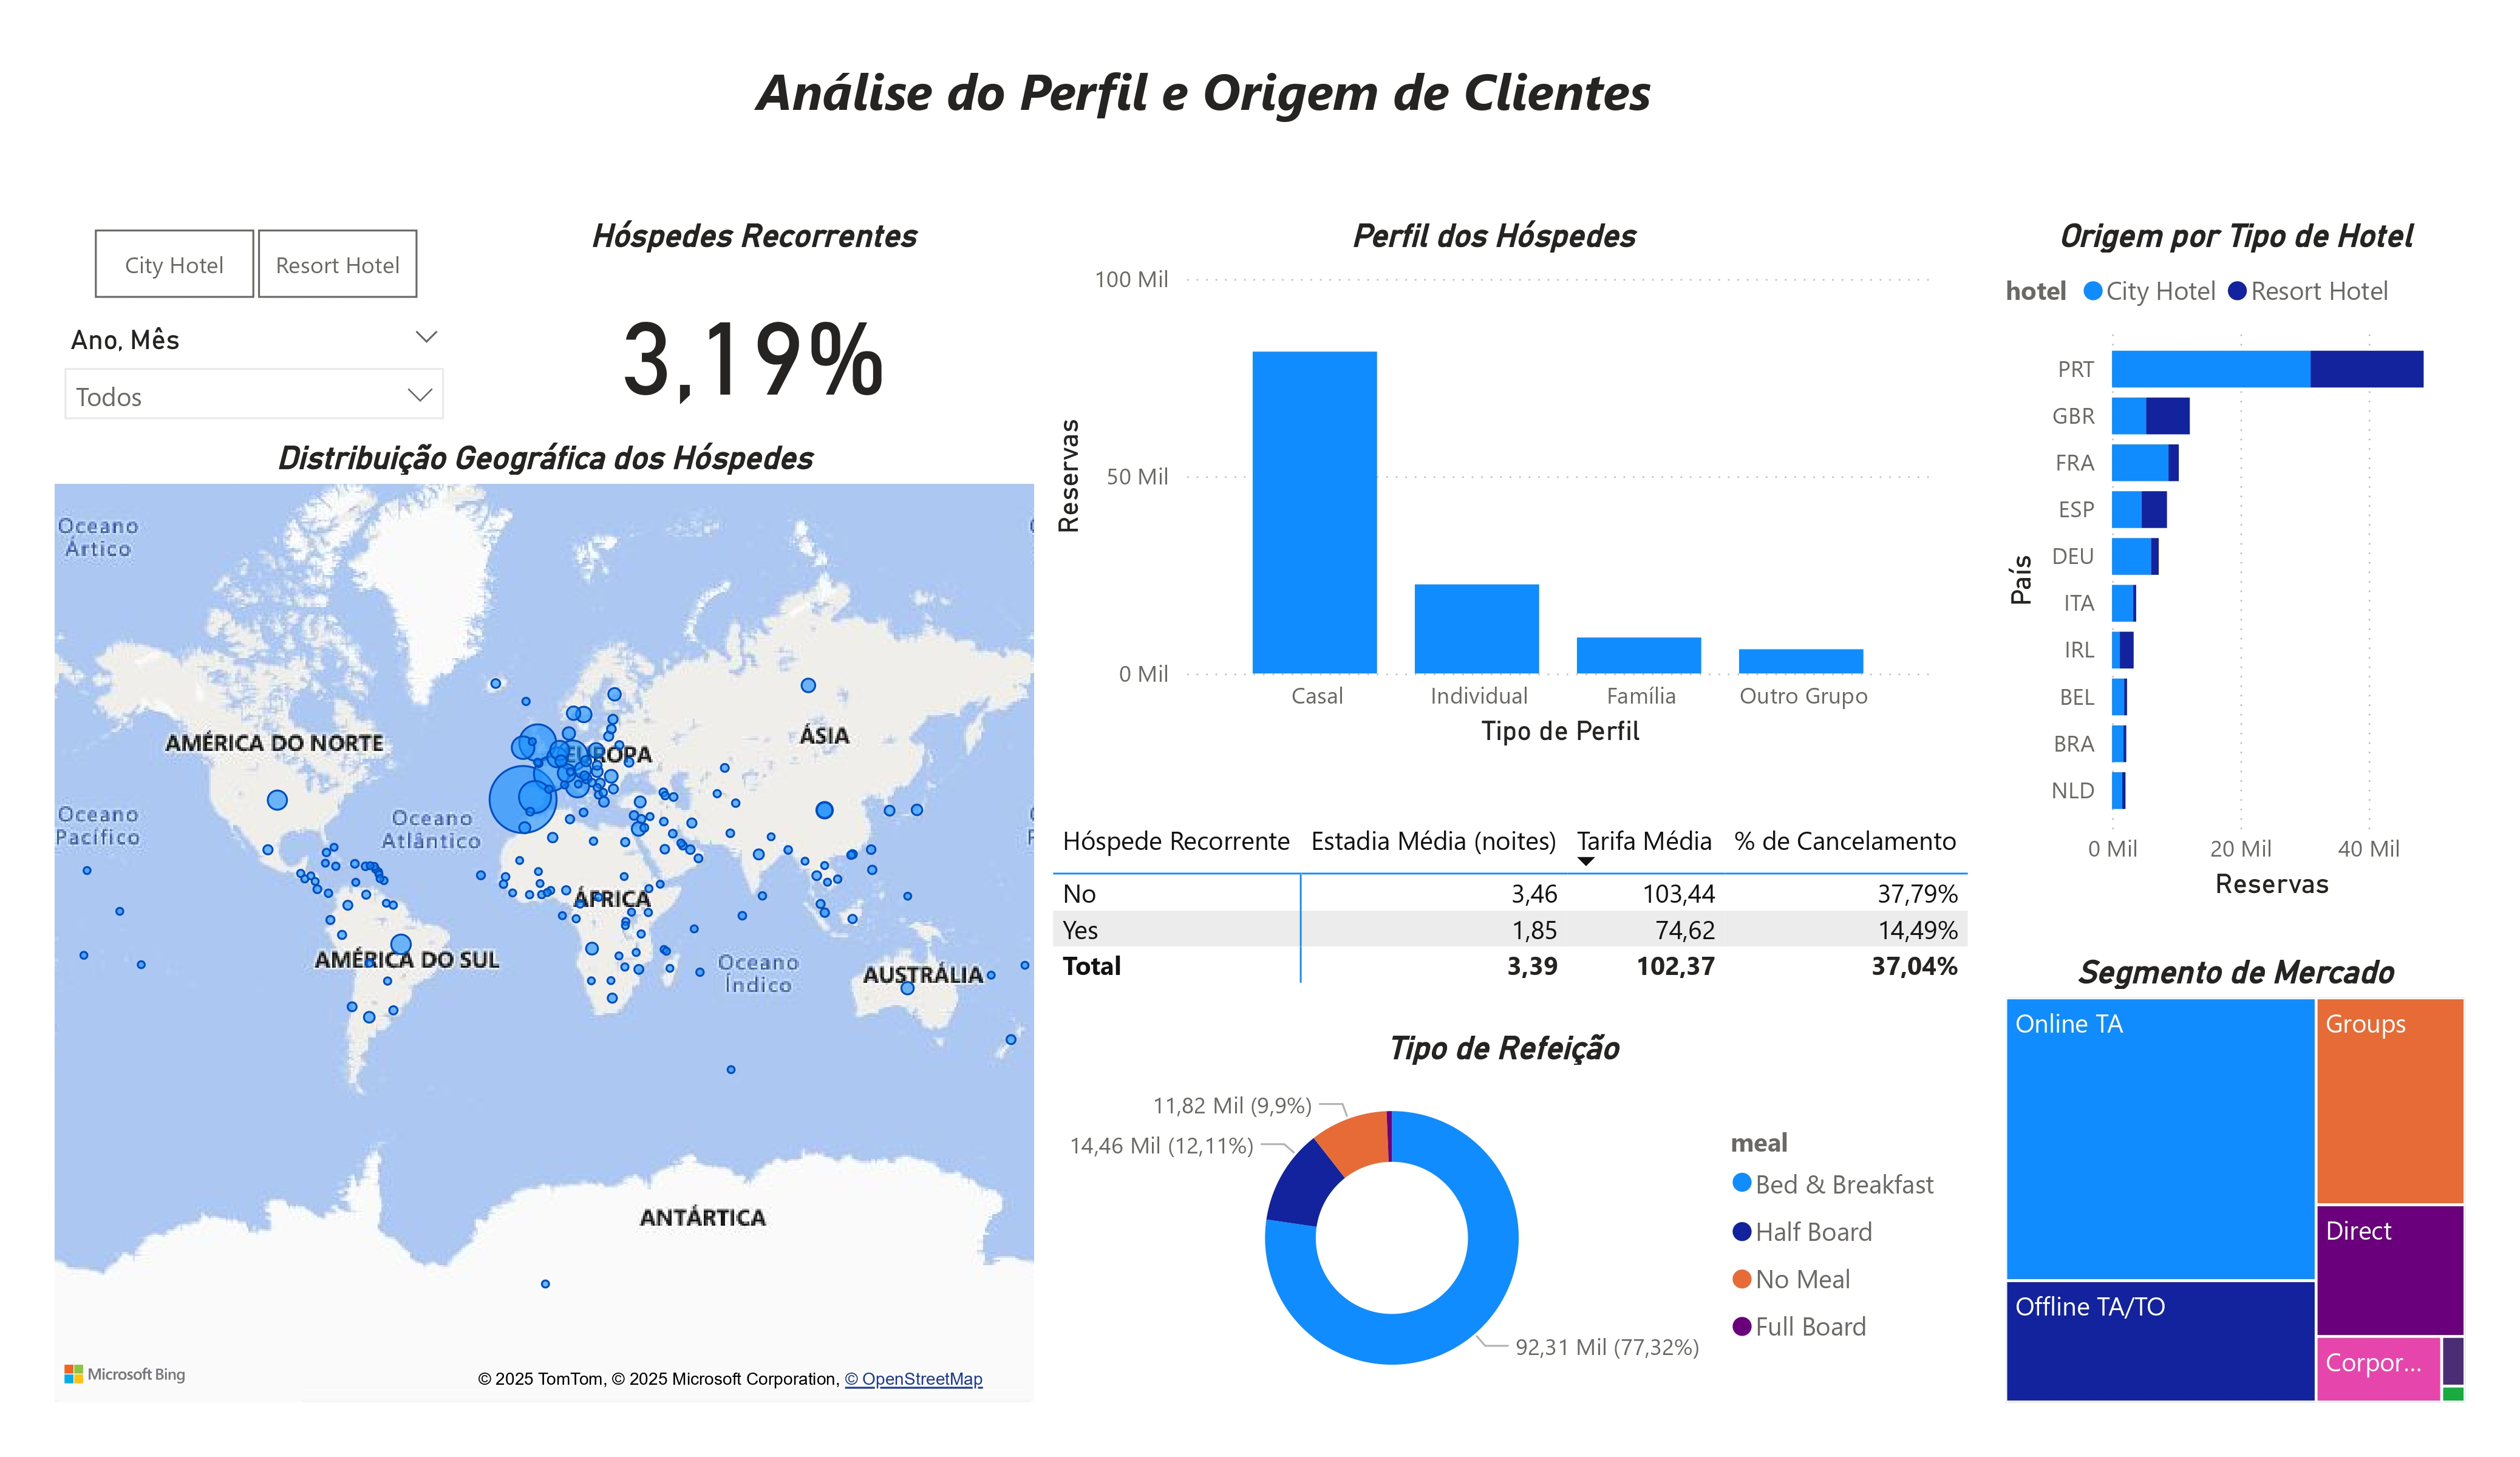

This screenshot's page, from the dashboard's own definition file:
{"tool":"powerbi","page":{"name":"Análise de Clientes","canvas":[1280,720],"ordinal":1},"visuals":[{"type":"map","title":"Distribuição Geográfica dos Hóspedes","fields":{"Category":["hotel_booking_tratado.country"],"Size":["CountNonNull(hotel_booking_tratado.hotel)"]},"box":[0,206.7,525.6,513.3],"z":0},{"type":"barChart","title":"Origem por Tipo de Hotel","fields":{"Category":["hotel_booking_tratado.country"],"Y":["CountNonNull(hotel_booking_tratado.hotel)"],"Series":["hotel_booking_tratado.hotel"]},"box":[1028,90,252,365],"z":1000},{"type":"columnChart","title":"Perfil dos Hóspedes","fields":{"Category":["hotel_booking_tratado.Perfil Grupo"],"Y":["CountNonNull(hotel_booking_tratado.hotel)"]},"box":[526,90,474,284],"z":2000},{"type":"slicer","fields":{"Values":["hotel_booking_tratado.arrival_date.Variation.Hierarquia de datas.Ano","hotel_booking_tratado.arrival_date.Variation.Hierarquia de datas.Mês"]},"box":[0,141.5,220,65.4],"z":3000},{"type":"slicer","fields":{"Values":["hotel_booking_tratado.hotel"]},"box":[0,90,220,50],"z":4000},{"type":"card","title":"Hóspedes Recorrentes","fields":{"Values":["hotel_booking_tratado.Taxa_Hospedes_recorrentes"]},"box":[220,90,305.6,116.7],"z":5000},{"type":"pivotTable","fields":{"Values":["hotel_booking_tratado.Duração_Média_Estadia","hotel_booking_tratado.ADR_médio","hotel_booking_tratado.Taxa_de_Cancelamento"],"Rows":["hotel_booking_tratado.is_repeated_guest"]},"box":[525.6,404.4,493.3,101.1],"z":6000},{"type":"donutChart","title":"Tipo de Refeição ","fields":{"Category":["hotel_booking_tratado.meal"],"Y":["CountNonNull(hotel_booking_tratado.hotel)"]},"box":[526,518,484,202],"z":7000},{"type":"textbox","box":[296.7,0,627.8,63.3],"z":8000},{"type":"treemap","title":"Segmento de Mercado","fields":{"Group":["hotel_booking_tratado.market_segment"],"Values":["CountNonNull(hotel_booking_tratado.hotel)"]},"box":[1028,478,252,242],"z":8001}]}

Visuals, with their boxes on the page's 1280x720 design canvas (x1, y1, x2, y2). These are canvas units, not pixel positions in the 2520x1457 screenshot, which may show the page scaled, cropped or inside an application window:
"Distribuição Geográfica dos Hóspedes" map: 0,207,526,720
"Origem por Tipo de Hotel" barChart: 1028,90,1280,455
"Perfil dos Hóspedes" columnChart: 526,90,1000,374
slicer - hotel_booking_tratado.arrival_date.Variation.Hierarquia de datas.Ano x hotel_booking_tratado.arrival_date.Variation.Hierarquia de datas.Mês: 0,142,220,207
slicer - hotel_booking_tratado.hotel: 0,90,220,140
"Hóspedes Recorrentes" card: 220,90,526,207
pivotTable - hotel_booking_tratado.Duração_Média_Estadia x hotel_booking_tratado.ADR_médio: 526,404,1019,506
"Tipo de Refeição " donutChart: 526,518,1010,720
textbox: 297,0,924,63
"Segmento de Mercado" treemap: 1028,478,1280,720
